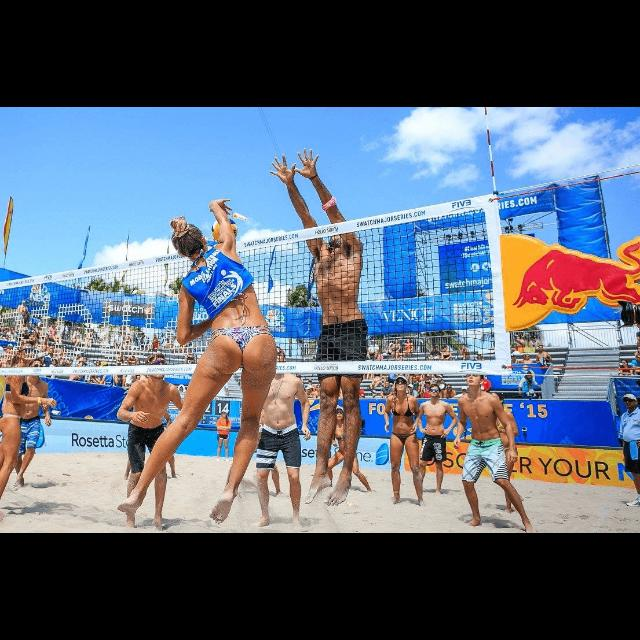head: (171, 224, 207, 258), (329, 224, 357, 248), (146, 354, 166, 382), (18, 342, 38, 363), (269, 347, 287, 367), (466, 369, 486, 387), (144, 376, 162, 394), (29, 359, 45, 378), (489, 394, 503, 411), (624, 394, 638, 410), (396, 376, 408, 392), (334, 407, 346, 421), (431, 386, 441, 398), (126, 334, 132, 342), (526, 373, 532, 381), (622, 360, 628, 368), (446, 385, 452, 393), (10, 328, 16, 334), (371, 340, 377, 346), (406, 338, 412, 344), (442, 346, 448, 352), (385, 383, 391, 389), (437, 376, 443, 382), (538, 346, 544, 352), (511, 356, 517, 362), (222, 412, 228, 418), (50, 349, 54, 357), (46, 336, 50, 342), (8, 346, 14, 350), (434, 346, 438, 352), (22, 302, 26, 306), (154, 336, 158, 340), (532, 338, 536, 342), (84, 331, 88, 334), (464, 346, 466, 348)
person: (116, 198, 280, 526), (268, 145, 370, 510), (243, 345, 313, 533), (0, 341, 58, 515), (2, 358, 54, 494), (121, 374, 179, 484), (384, 374, 430, 512), (476, 392, 526, 518), (410, 382, 460, 502), (324, 404, 376, 496), (518, 369, 544, 418), (214, 410, 233, 464), (40, 349, 60, 383), (14, 300, 30, 334), (536, 344, 552, 376), (618, 360, 636, 388), (432, 374, 448, 404), (379, 382, 395, 410), (5, 327, 19, 358), (426, 344, 442, 370), (40, 335, 56, 357), (527, 334, 543, 356), (3, 344, 17, 368), (366, 340, 380, 364), (444, 384, 456, 412), (441, 344, 453, 370), (458, 344, 470, 370), (402, 338, 416, 359), (507, 356, 521, 376), (122, 332, 134, 352), (150, 334, 162, 354), (84, 328, 90, 352)
